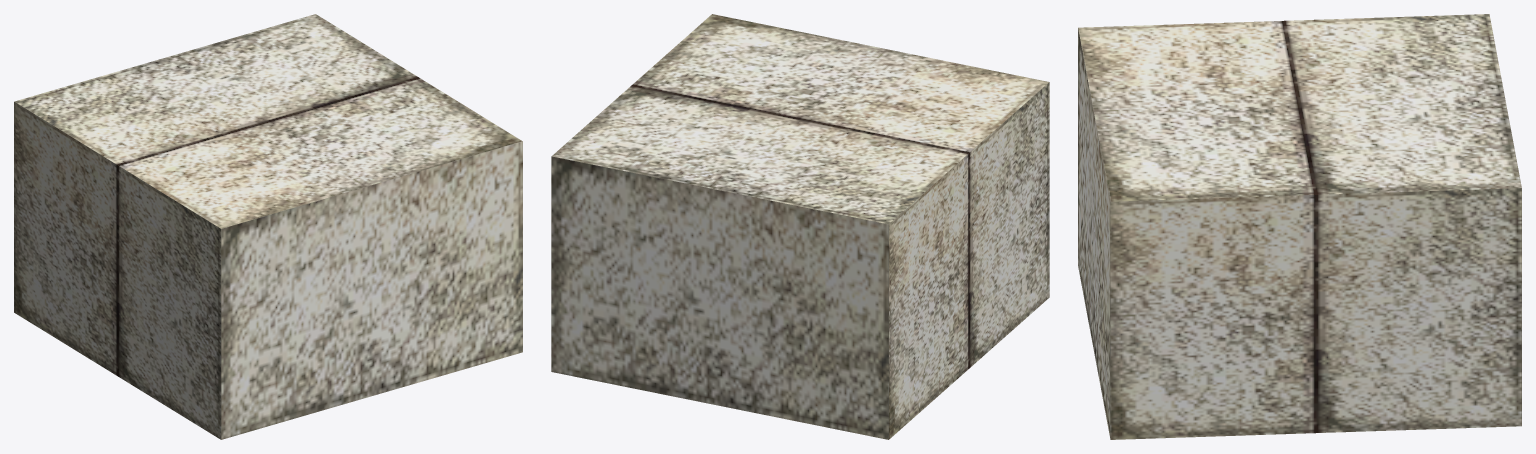
The model's file is stone_1.glb.
3 views of the same model, side by side, from view 1: azimuth 30°, elevation 25°; view 2: azimuth 150°, elevation 25°; view 3: azimuth 270°, elevation 25° (orthographic). The views are drawn at different scales.
Parts seen in each view (by area): view 1: stone_1.001; view 2: stone_1.001; view 3: stone_1.001.
Part boxes in pixels (left/top/right/bottom): stone_1.001: left=14, top=14, right=522, bottom=439; stone_1.001: left=551, top=14, right=1049, bottom=439; stone_1.001: left=1078, top=14, right=1521, bottom=439.
Bounding box in the file's own units: 62.98 × 37.26 × 62.91.
1 material, 1 textured.
